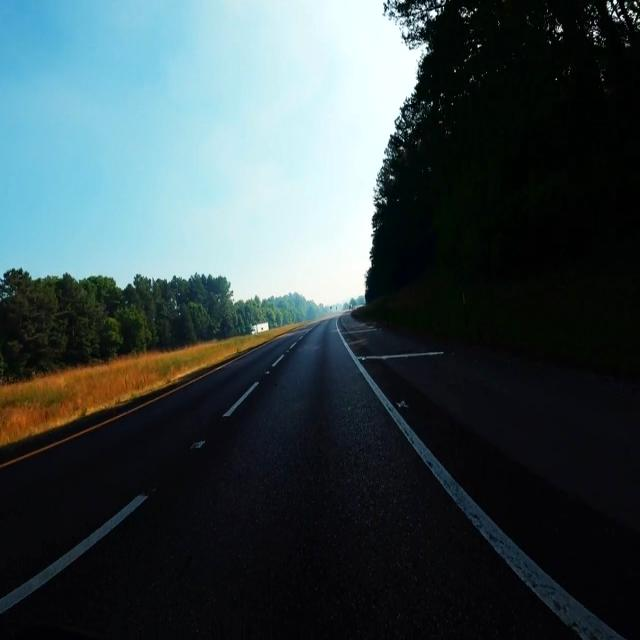road: (0, 318, 574, 637), (365, 361, 640, 636), (420, 349, 640, 482)
